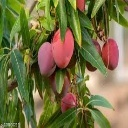mango: (38, 43, 55, 75)
